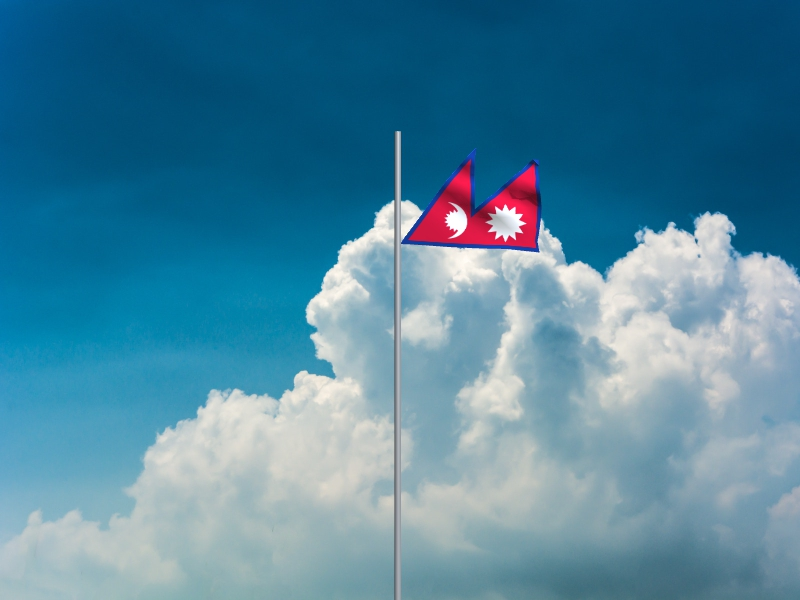np: (401, 145, 544, 255)
